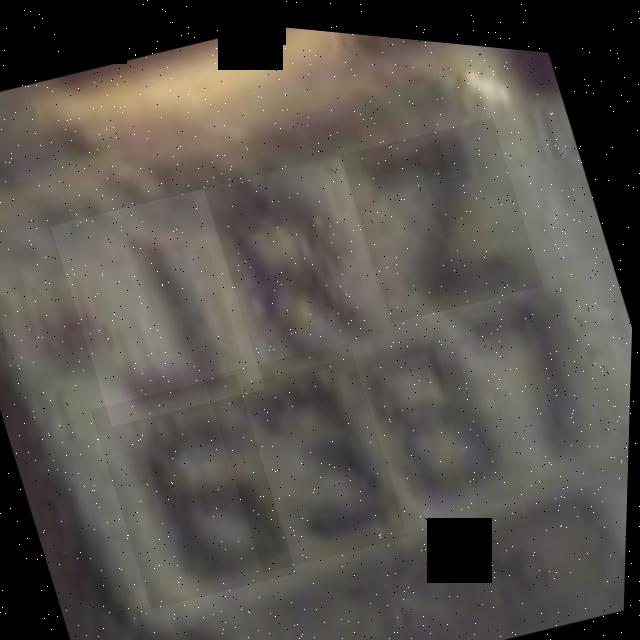3: (201, 323, 416, 578)
6: (88, 357, 304, 616)
7: (417, 256, 635, 509)
8: (319, 292, 532, 541)
J: (47, 172, 271, 435)
R: (188, 137, 401, 387)
Z: (338, 95, 550, 326)
